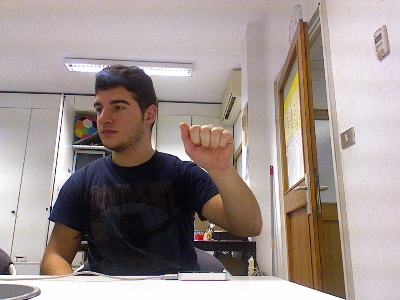石头: (177, 121, 234, 169)
